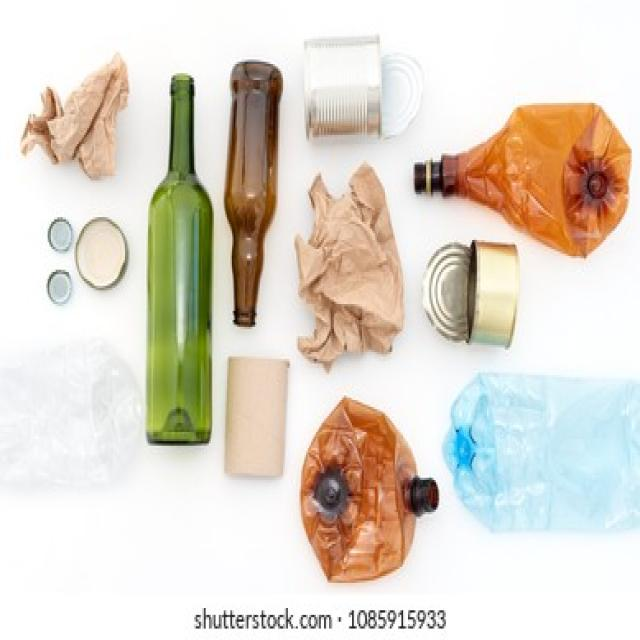glass: (153, 82, 212, 446), (230, 73, 270, 325)
metal: (298, 36, 400, 135), (434, 252, 515, 348)
paper: (310, 213, 394, 352), (44, 53, 110, 162)
plastic: (464, 382, 615, 526), (304, 418, 422, 581), (479, 114, 617, 240)
